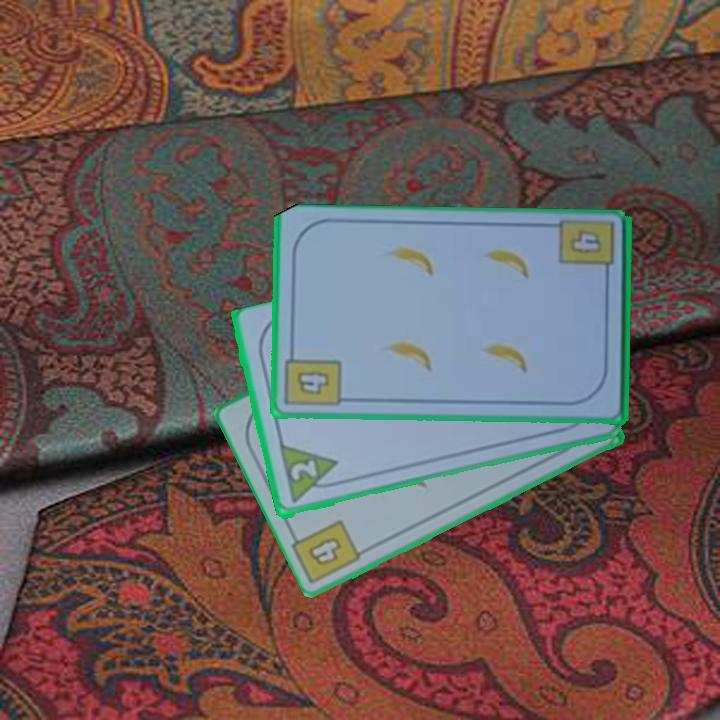2p: (286, 456, 320, 484)
4b: (282, 345, 344, 410), (304, 533, 344, 570), (566, 226, 605, 257)
